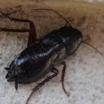cockroach: (6, 25, 82, 84)
